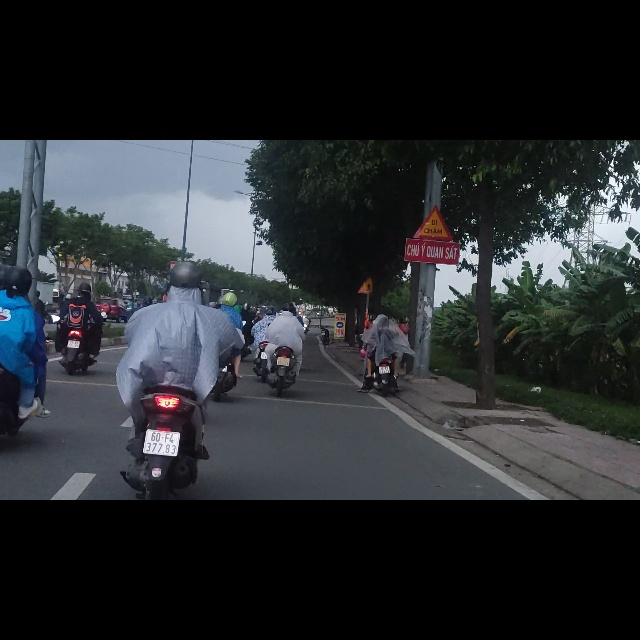bien_nguy_hiem: (413, 115, 453, 179)
